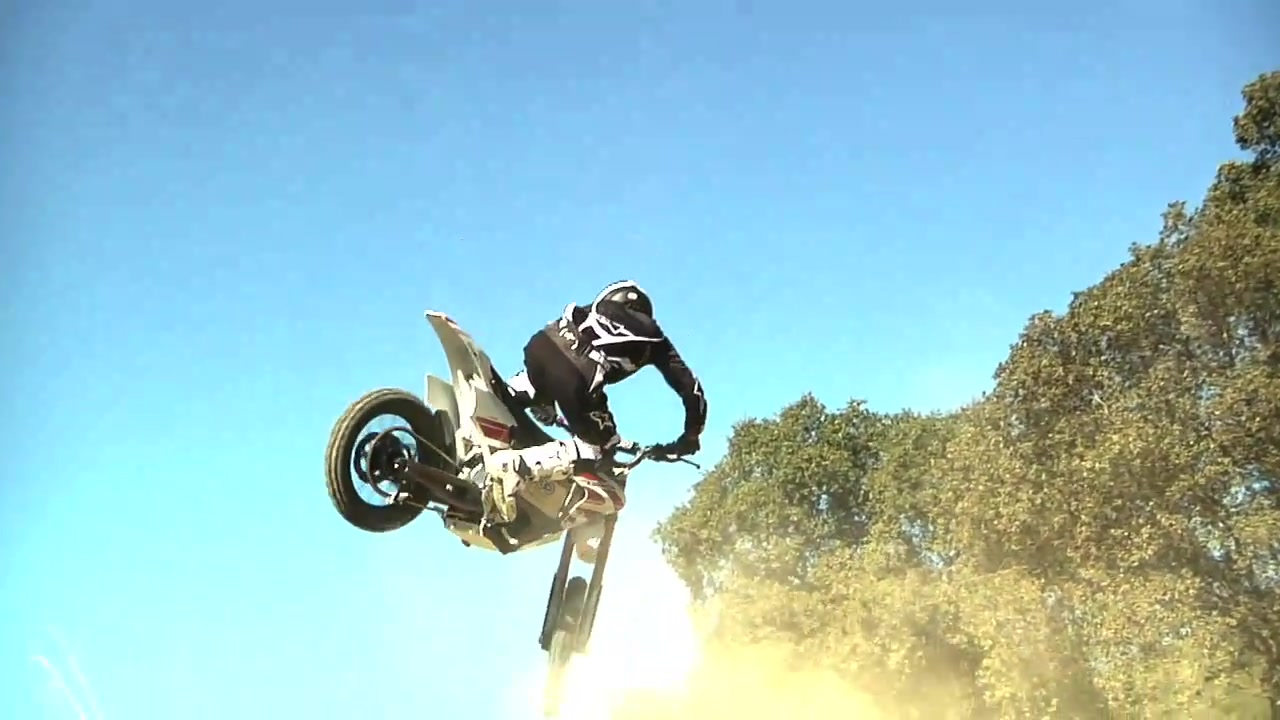motorbike: (322, 310, 701, 683)
